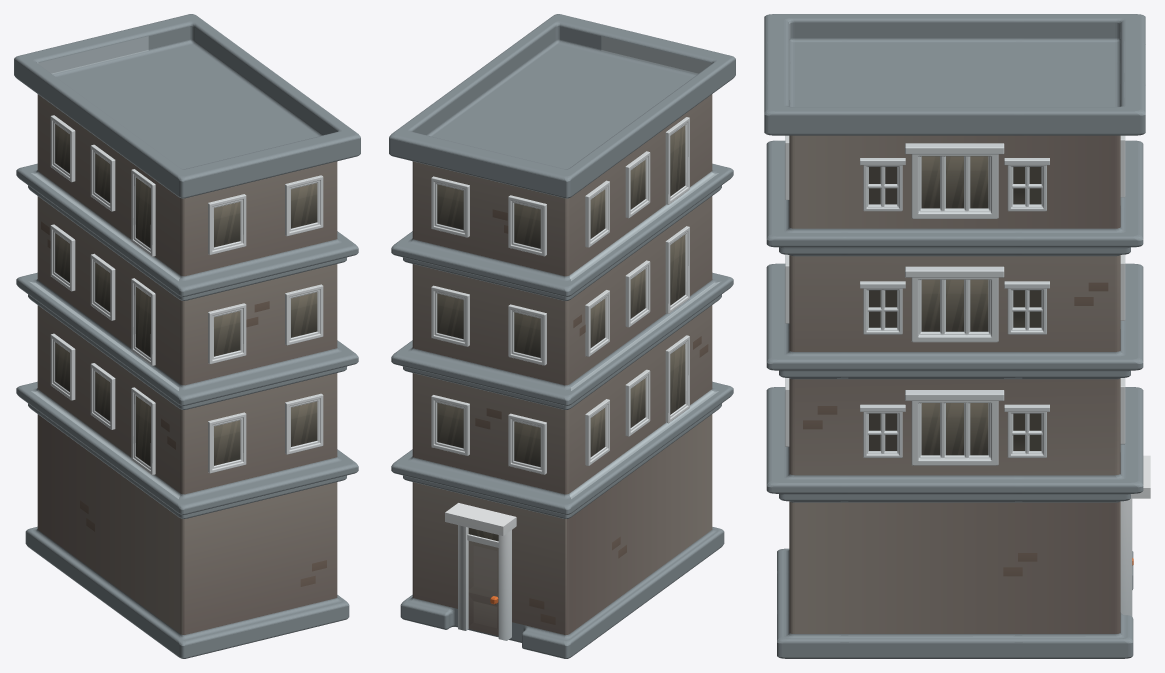
The model's file is marron nuevo.fbx.
3 renders of one model, left to right at view 1: azimuth 30°, elevation 25°; view 2: azimuth 150°, elevation 25°; view 3: azimuth 270°, elevation 25°, orthographic. The views are drawn at different scales.
Parts seen in each view (by area): view 1: Cube.031; view 2: Cube.031; view 3: Cube.031.
Boxes of the visible parts, bbox=[...] form: Cube.031: bbox=[14, 14, 360, 658]; Cube.031: bbox=[389, 14, 735, 658]; Cube.031: bbox=[764, 14, 1150, 658].
Bounding box in the file's own units: 1040 × 2678 × 1703.
Materials: 4 (4 with a texture image).
